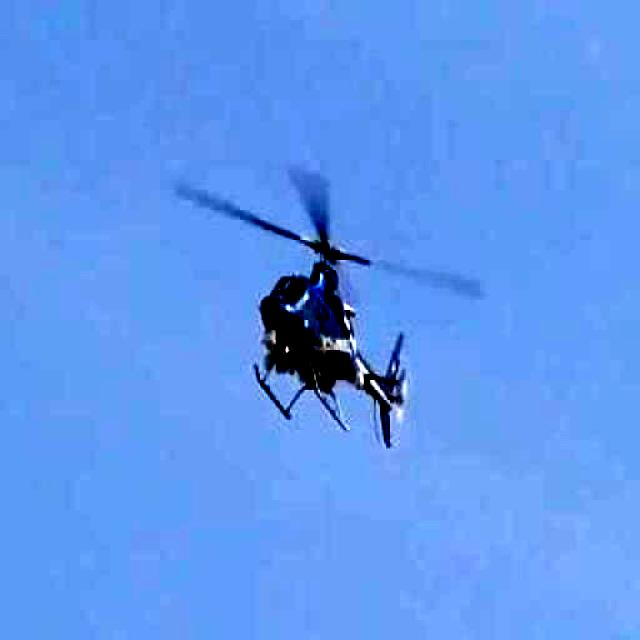drone: (151, 158, 498, 466)
